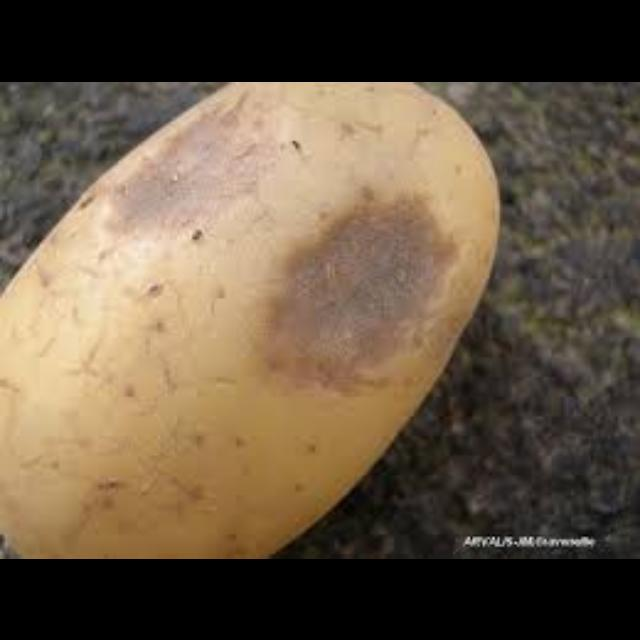Damaged potato: (3, 81, 493, 552)
